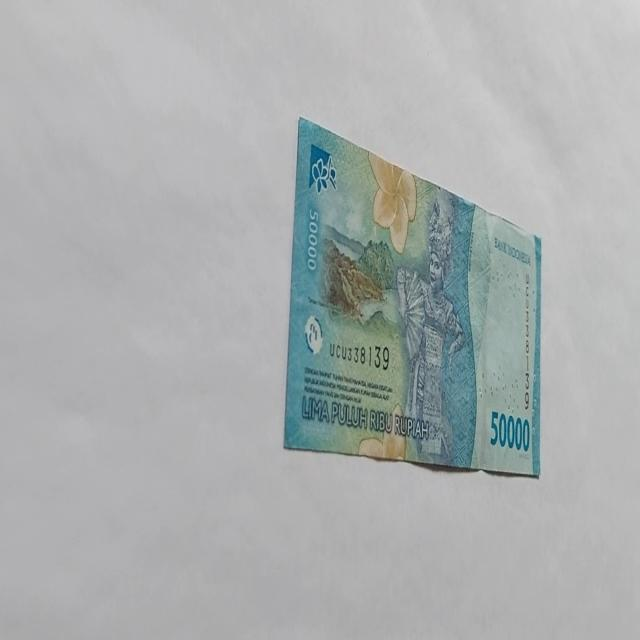lima puluh ribu rupiah: (282, 114, 542, 478)
